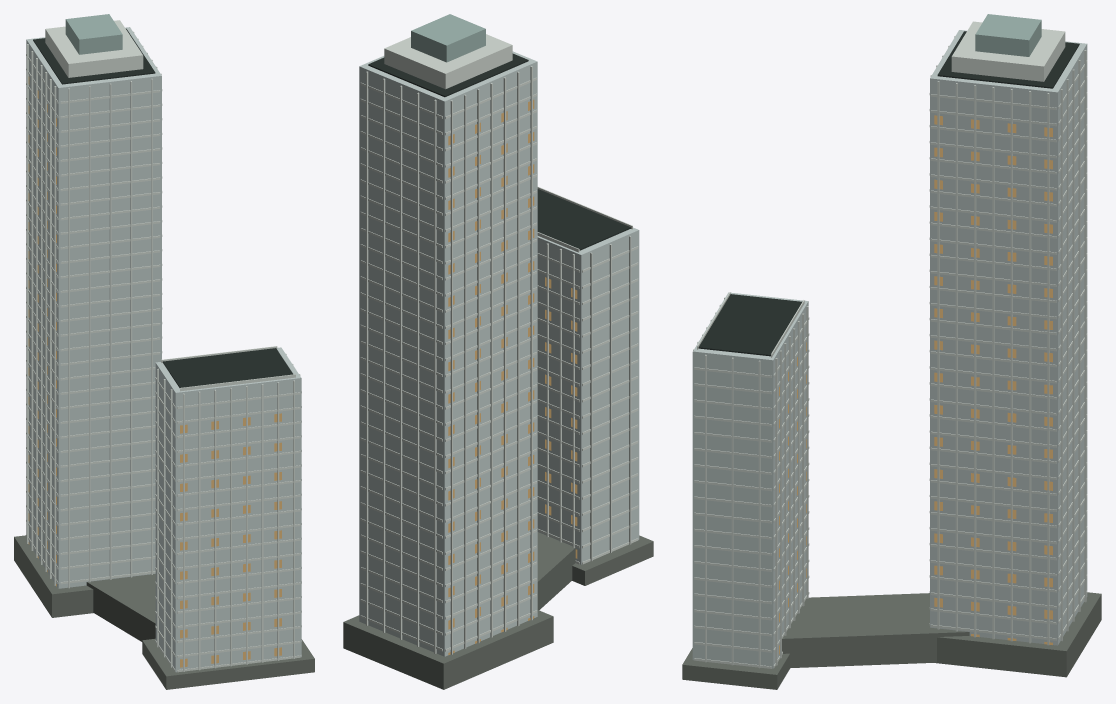
The model's file is aerospace-plaza.glb.
The picture shows the model from 3 angles, left to right: view 1: azimuth 30°, elevation 25°; view 2: azimuth 150°, elevation 25°; view 3: azimuth 270°, elevation 25°; orthographic projection. The views are drawn at different scales.
Visible parts, largest first — view 1: envelope, fins, floor_bands, podium, roof_deck, podium_link, night_windows, crown_step, crown_screen, parapet; view 2: envelope, fins, floor_bands, podium, roof_deck, night_windows, crown_step, crown_screen, podium_link, parapet; view 3: envelope, fins, floor_bands, podium_link, podium, roof_deck, night_windows, crown_step, crown_screen.
Part boxes in pixels (x1=…): envelope: x1=26, y1=27, x2=301, y2=672; fins: x1=26, y1=31, x2=300, y2=671; floor_bands: x1=26, y1=53, x2=301, y2=672; podium: x1=14, y1=535, x2=314, y2=689; roof_deck: x1=33, y1=28, x2=293, y2=387; podium_link: x1=86, y1=574, x2=155, y2=641; night_windows: x1=28, y1=76, x2=281, y2=667; crown_step: x1=45, y1=20, x2=143, y2=77; crown_screen: x1=65, y1=14, x2=122, y2=54; parapet: x1=161, y1=346, x2=295, y2=391; envelope: x1=359, y1=51, x2=639, y2=656; fins: x1=366, y1=66, x2=631, y2=654; floor_bands: x1=360, y1=77, x2=638, y2=651; podium: x1=343, y1=535, x2=653, y2=689; roof_deck: x1=368, y1=53, x2=630, y2=250; night_windows: x1=448, y1=99, x2=577, y2=655; crown_step: x1=384, y1=34, x2=512, y2=89; crown_screen: x1=411, y1=14, x2=485, y2=62; podium_link: x1=537, y1=532, x2=575, y2=610; parapet: x1=537, y1=187, x2=632, y2=252; envelope: x1=692, y1=30, x2=1087, y2=668; fins: x1=693, y1=36, x2=1086, y2=668; floor_bands: x1=694, y1=60, x2=1087, y2=668; podium_link: x1=782, y1=593, x2=969, y2=668; podium: x1=682, y1=592, x2=1101, y2=689; roof_deck: x1=698, y1=31, x2=1079, y2=356; night_windows: x1=779, y1=115, x2=1052, y2=654; crown_step: x1=951, y1=21, x2=1065, y2=81; crown_screen: x1=975, y1=14, x2=1041, y2=56.
Bounding box in the file's own units: 74.05 × 245 × 152.
